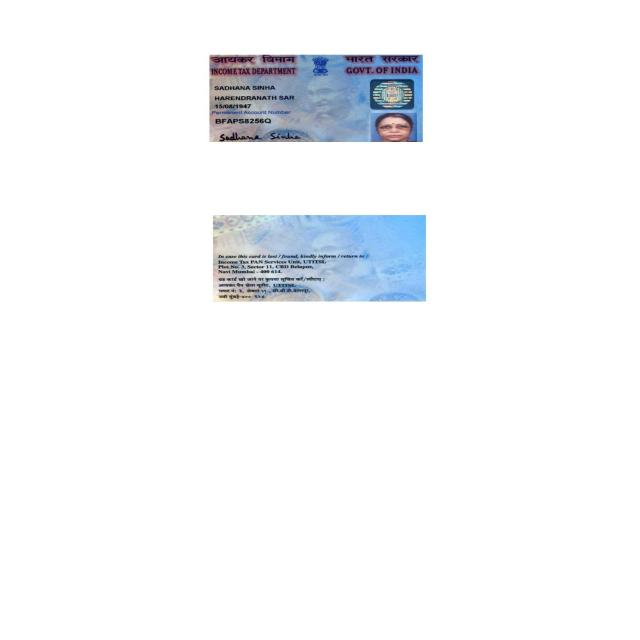pan_card: (207, 50, 420, 144), (214, 215, 427, 302)
